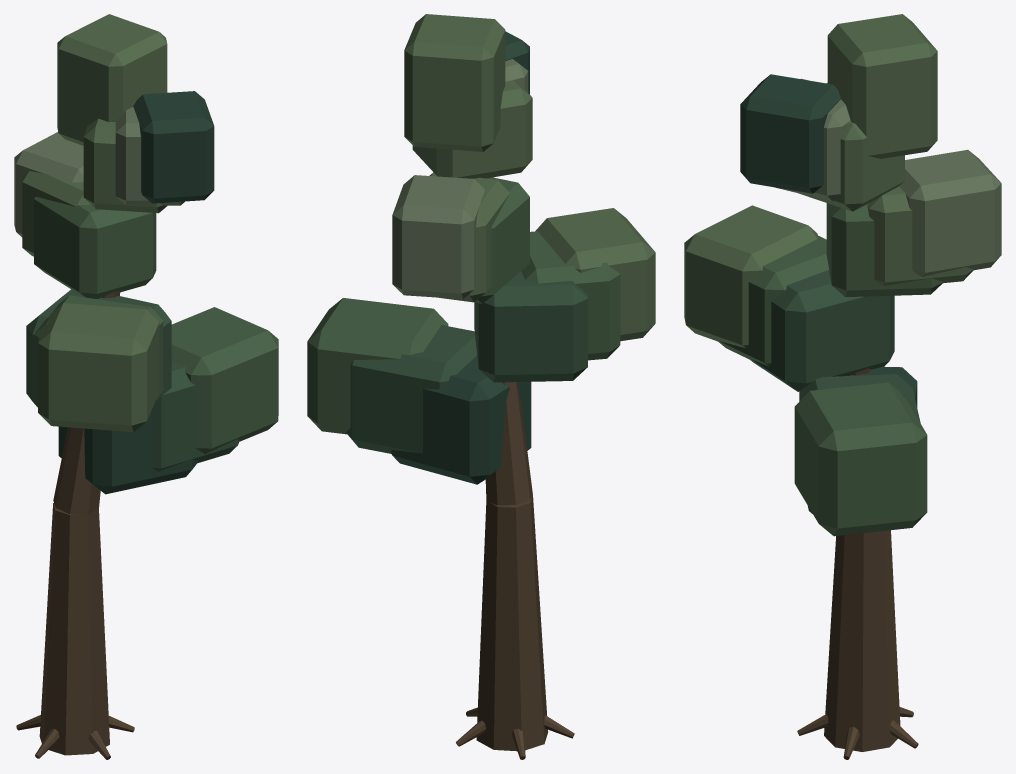
The model's file is juniper_sapling.glb.
The picture shows the model from 3 angles, left to right: view 1: azimuth 30°, elevation 25°; view 2: azimuth 150°, elevation 25°; view 3: azimuth 270°, elevation 25°; orthographic projection. The views are drawn at different scales.
Visible parts, largest first — view 1: juniper_sapling; view 2: juniper_sapling; view 3: juniper_sapling.
Part boxes in pixels (x1=…): juniper_sapling: x1=14, y1=14, x2=278, y2=759; juniper_sapling: x1=307, y1=14, x2=655, y2=759; juniper_sapling: x1=684, y1=14, x2=1001, y2=759.
Bounding box in the file's own units: 2.1 × 5 × 1.98.
